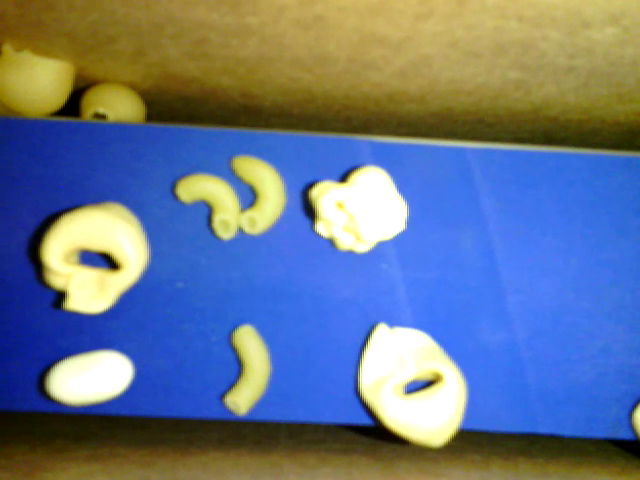elbow: (229, 154, 286, 234), (225, 324, 272, 416), (175, 173, 238, 240)
shell: (1, 42, 75, 116), (82, 83, 146, 123)
tortellini: (359, 323, 467, 447), (39, 201, 149, 315)
